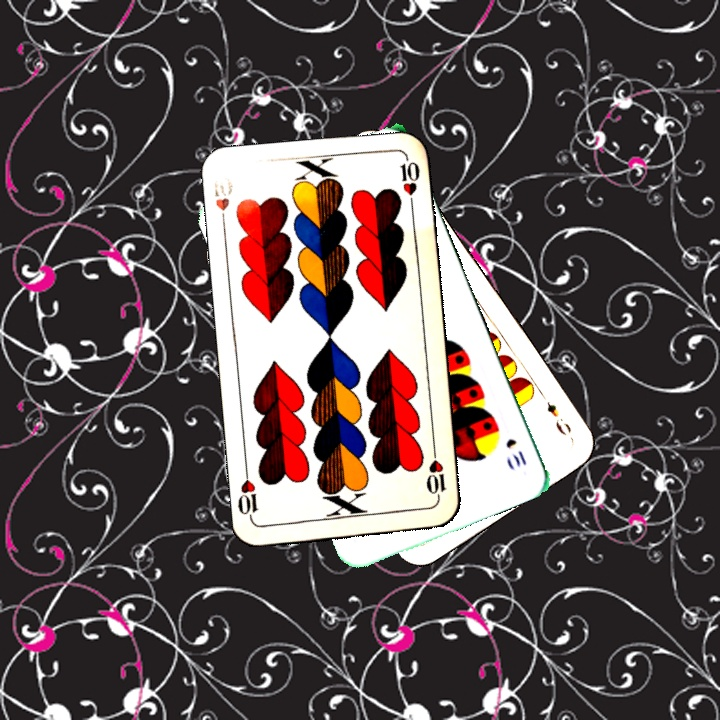E9: (542, 397, 575, 439)
H10: (422, 445, 449, 504), (209, 176, 236, 231)
S10: (501, 434, 530, 470)
